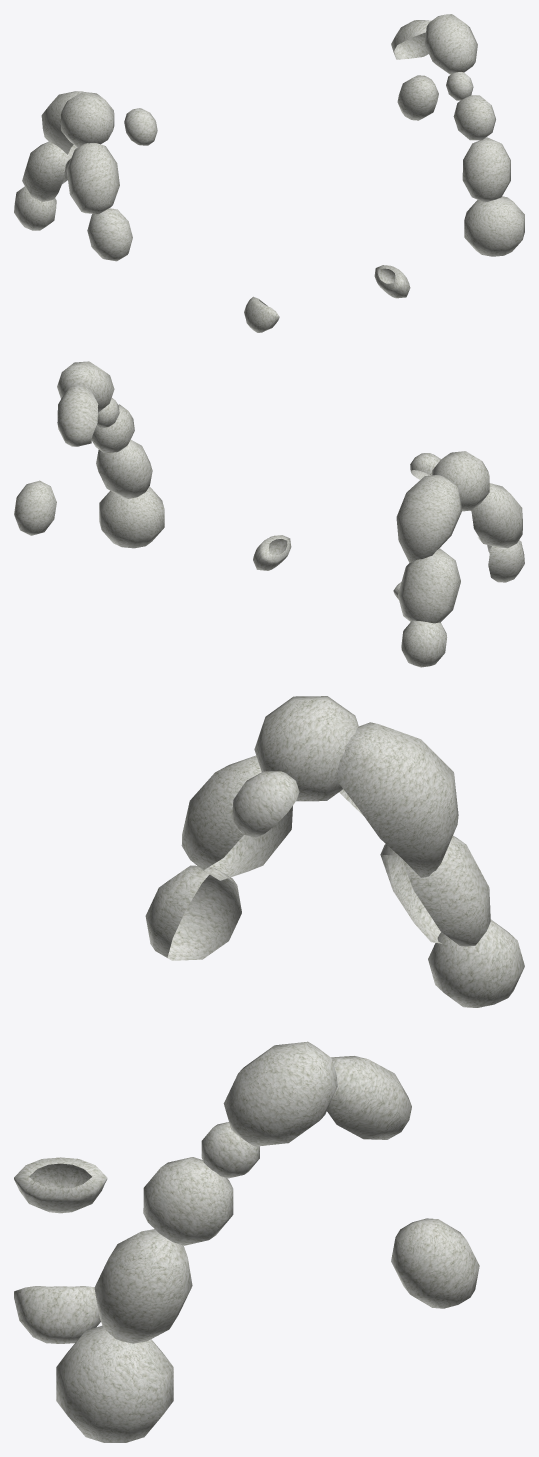
Rendered from fbx_facility_building_07.FBX.
The picture shows the model from 3 angles, top to bottom: view 1: azimuth 30°, elevation 25°; view 2: azimuth 150°, elevation 25°; view 3: azimuth 270°, elevation 25°; orthographic projection. The views are drawn at different scales.
Visible parts, largest first — view 1: facility_building_07; view 2: facility_building_07; view 3: facility_building_07.
Part boxes in pixels (box(x1,y1,x2,y2)): facility_building_07: box(14, 14, 524, 332); facility_building_07: box(14, 361, 524, 667); facility_building_07: box(14, 696, 524, 1442).
Bounding box in the file's own units: 95.94 × 46.78 × 52.74.
